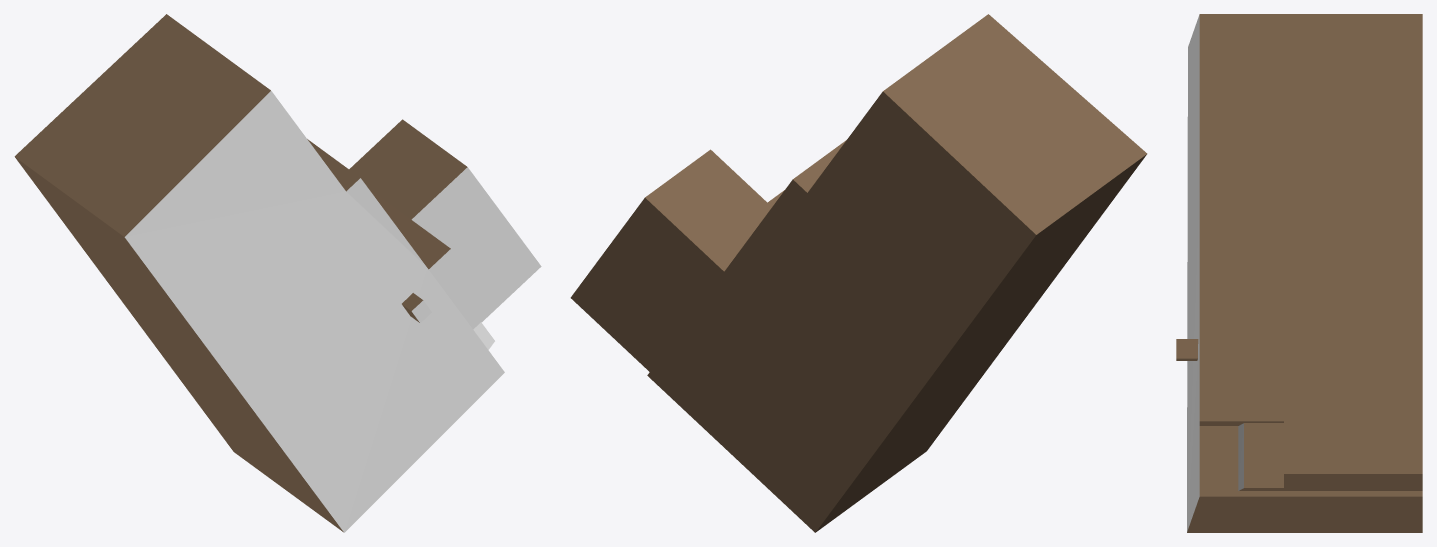
The model's file is Groupe9137200.obj.
3 views of the same model, side by side, from view 1: azimuth 30°, elevation 25°; view 2: azimuth 150°, elevation 25°; view 3: azimuth 270°, elevation 25° (orthographic). The views are drawn at different scales.
Parts seen in each view (by area): view 1: City_Groupe9137200; view 2: City_Groupe9137200; view 3: City_Groupe9137200.
Part boxes in pixels (box(x1,y1,x2,y2)): City_Groupe9137200: box(14, 14, 541, 532); City_Groupe9137200: box(570, 14, 1147, 532); City_Groupe9137200: box(1176, 14, 1422, 532).
Size of the model in its own units: 2502 by 2351 by 1085.
